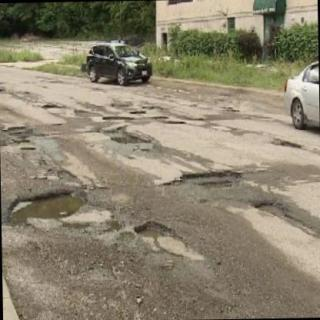pothole: (8, 191, 88, 227), (251, 202, 320, 238), (157, 173, 249, 188), (134, 222, 178, 240)
